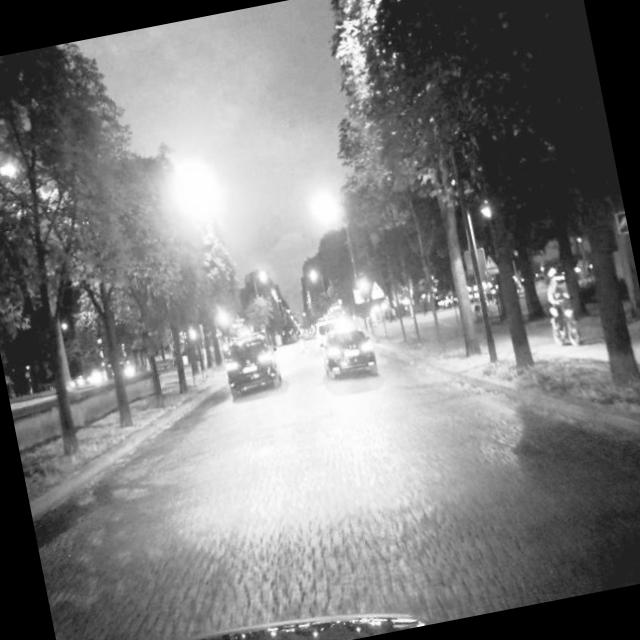Tree: (513, 0, 640, 399), (0, 49, 118, 469), (426, 0, 549, 385)
